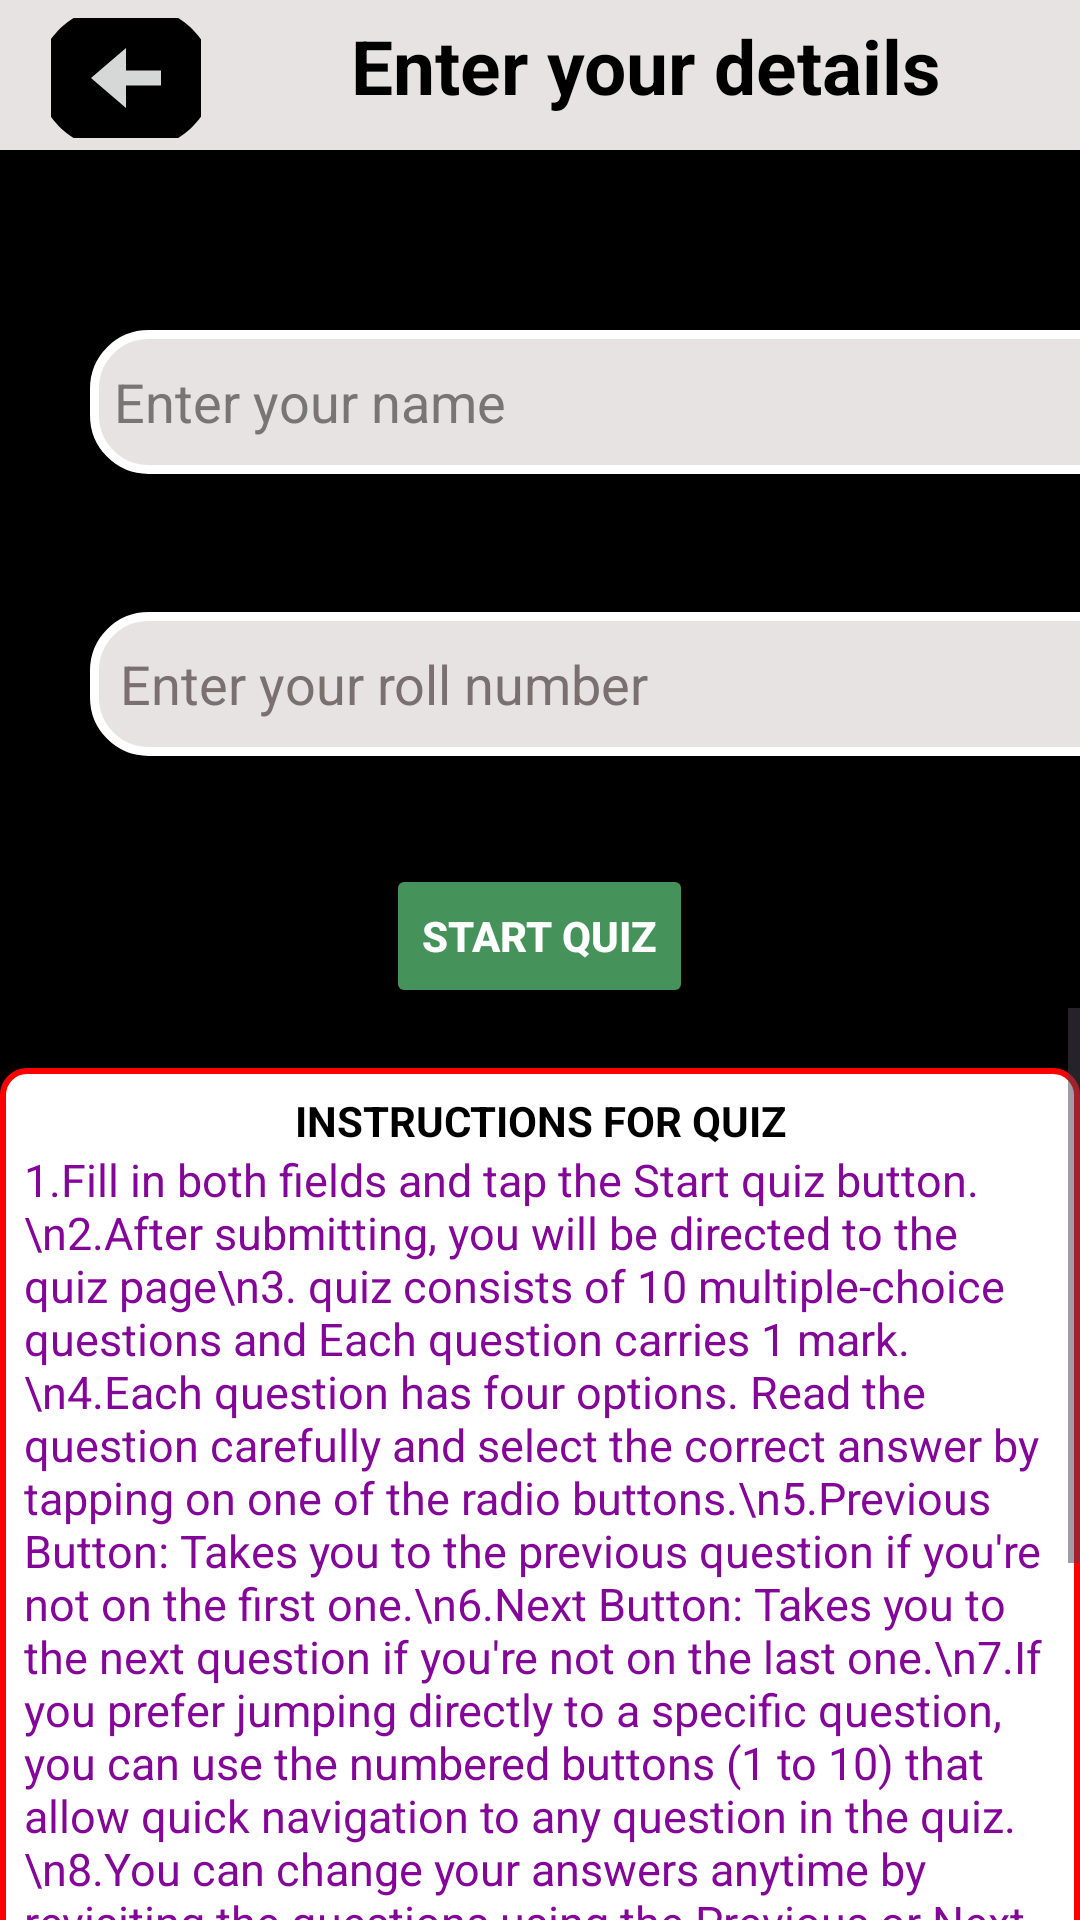

Screen size 1080px x 1920px. Icon name, then its box in pixels as bbox=[x1, y1, x2, y2]:
arrow circle left: bbox=[51, 18, 201, 138]
